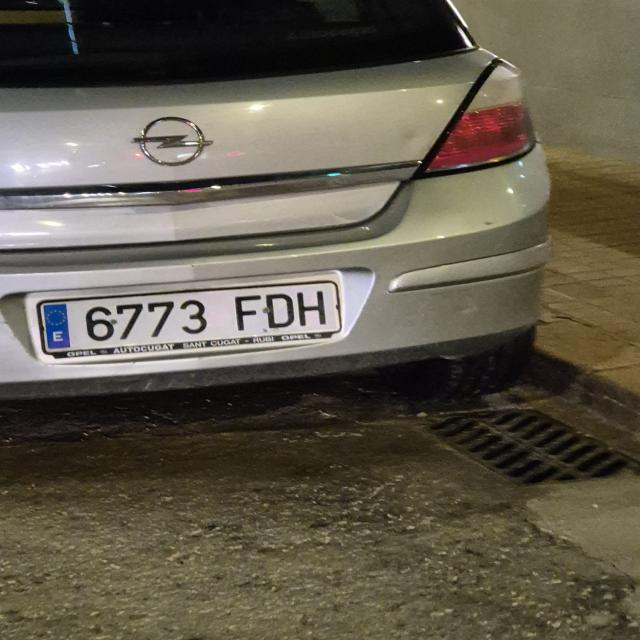license_plate-34Td: (25, 274, 374, 364)
